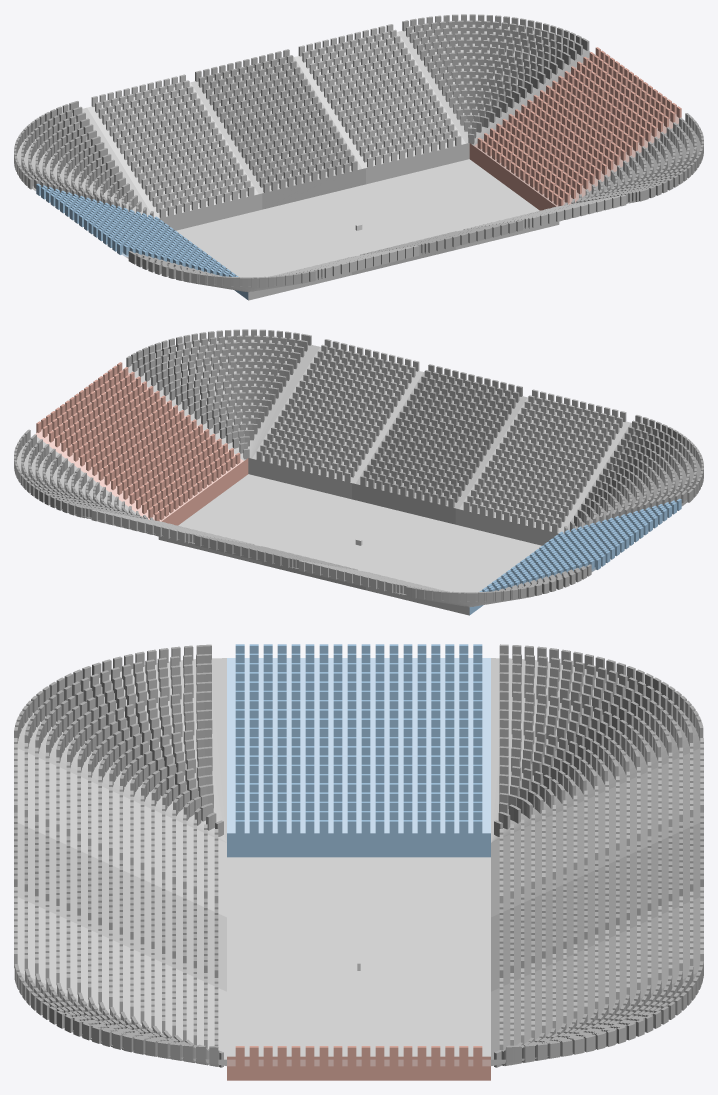
The model's file is tennis-court.fbx.
The picture shows the model from 3 angles, top to bottom: view 1: azimuth 30°, elevation 25°; view 2: azimuth 150°, elevation 25°; view 3: azimuth 270°, elevation 25°; orthographic projection. The views are drawn at different scales.
Parts seen in each view (by area): view 1: floor, seat_left, seat_botright, seat_botleft, seat_bot, seat_right, bleacher_fan_floor_botright, bleacher_floor_bot, bleacher_floor_botright, bleacher_floor_botleft, bleacher_wall_bot, bleacher_wall_botright (+9 smaller); view 2: floor, seat_left, seat_topright, seat_topleft, seat_top, seat_right, bleacher_fan_floor_topright, bleacher_floor_top, bleacher_floor_topright, bleacher_floor_topleft, bleacher_floor_left, bleacher_wall_top (+9 smaller); view 3: floor, seat_right, bleacher_floor_right, bleacher_floor_bot, bleacher_floor_top, bleacher_floor_botleft, bleacher_floor_topleft, bleacher_floor_topright, bleacher_floor_botright, bleacher_wall_right, bleacher_fan_floor_topleft, seat_topright (+9 smaller).
Part boxes in pixels (x1,y1,x2,y2): floor: (176, 159, 539, 277); seat_left: (477, 47, 681, 206); seat_botright: (298, 24, 461, 167); seat_botleft: (91, 74, 254, 218); seat_bot: (195, 49, 357, 192); seat_right: (36, 183, 238, 276); bleacher_fan_floor_botright: (398, 24, 590, 145); bleacher_floor_bot: (191, 57, 362, 193); bleacher_floor_botright: (294, 32, 465, 168); bleacher_floor_botleft: (87, 82, 258, 218); bleacher_wall_bot: (262, 168, 365, 209); bleacher_wall_botright: (366, 143, 469, 184); floor: (178, 474, 541, 592); seat_left: (36, 362, 240, 521); seat_topright: (256, 339, 419, 482); seat_topleft: (463, 389, 626, 533); seat_top: (360, 364, 522, 507); seat_right: (479, 498, 681, 591); bleacher_fan_floor_topright: (128, 339, 319, 460); bleacher_floor_top: (355, 372, 526, 508); bleacher_floor_topright: (252, 347, 423, 483); bleacher_floor_topleft: (459, 397, 630, 533); bleacher_floor_left: (35, 370, 243, 521); bleacher_wall_top: (352, 483, 455, 524); floor: (227, 857, 490, 1056); seat_right: (235, 644, 482, 833); bleacher_floor_right: (227, 658, 490, 833); bleacher_floor_bot: (491, 823, 700, 991); bleacher_floor_top: (17, 823, 226, 991); bleacher_floor_botleft: (491, 748, 700, 917); bleacher_floor_topleft: (17, 748, 226, 917); bleacher_floor_topright: (17, 897, 226, 1059); bleacher_floor_botright: (491, 897, 700, 1059); bleacher_wall_right: (227, 833, 490, 857); bleacher_fan_floor_topleft: (17, 658, 226, 842); seat_topright: (14, 887, 218, 1048).
Bounding box in the file's own units: 78400 × 108400 × 16320.
